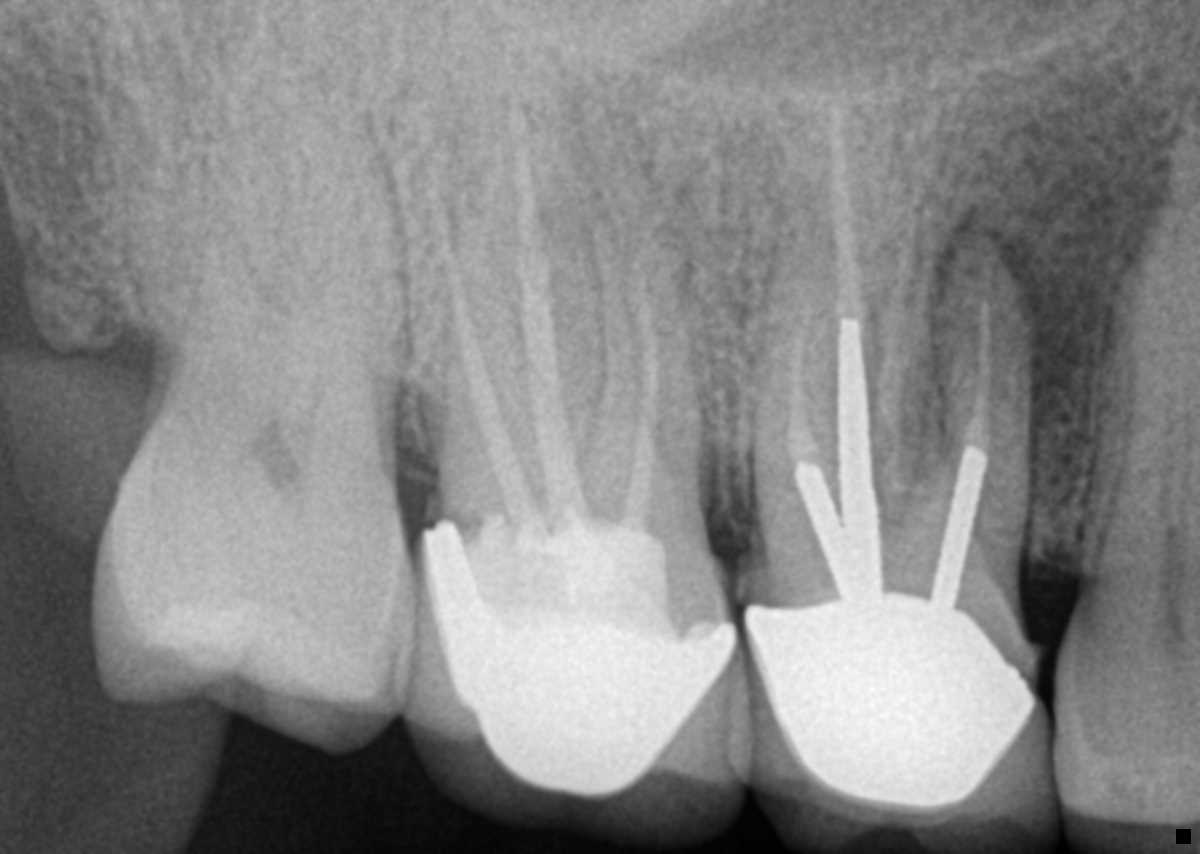Apical Lesion: (890, 85, 1170, 453)
Distal Root: (400, 140, 561, 484), (98, 11, 257, 331), (746, 266, 859, 547)
Main Canal: (1164, 435, 1192, 552)
Main Root: (1080, 125, 1200, 560)
Mesial Root: (234, 30, 398, 352), (567, 211, 707, 531), (903, 230, 1034, 550)
Palatal Root: (426, 65, 701, 558), (743, 105, 941, 516)
Root Canal Filling: (431, 191, 542, 528), (509, 96, 591, 527), (615, 263, 655, 529), (832, 111, 864, 318), (789, 308, 819, 463), (969, 301, 990, 453)
